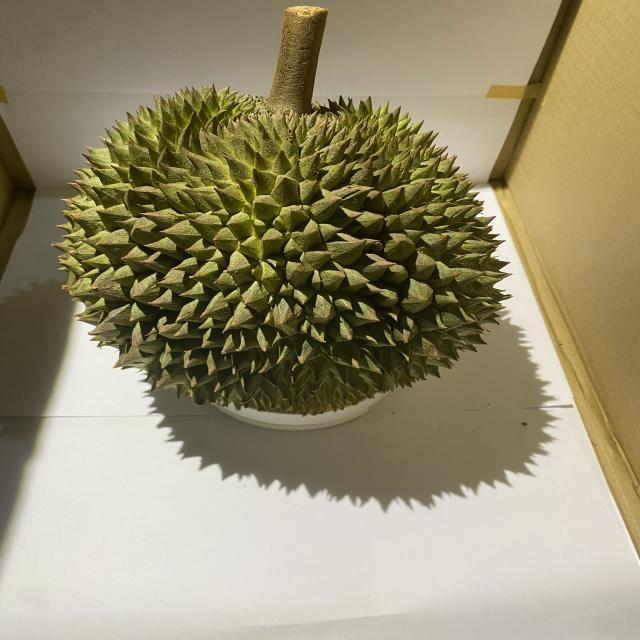immature: (50, 80, 516, 418)
